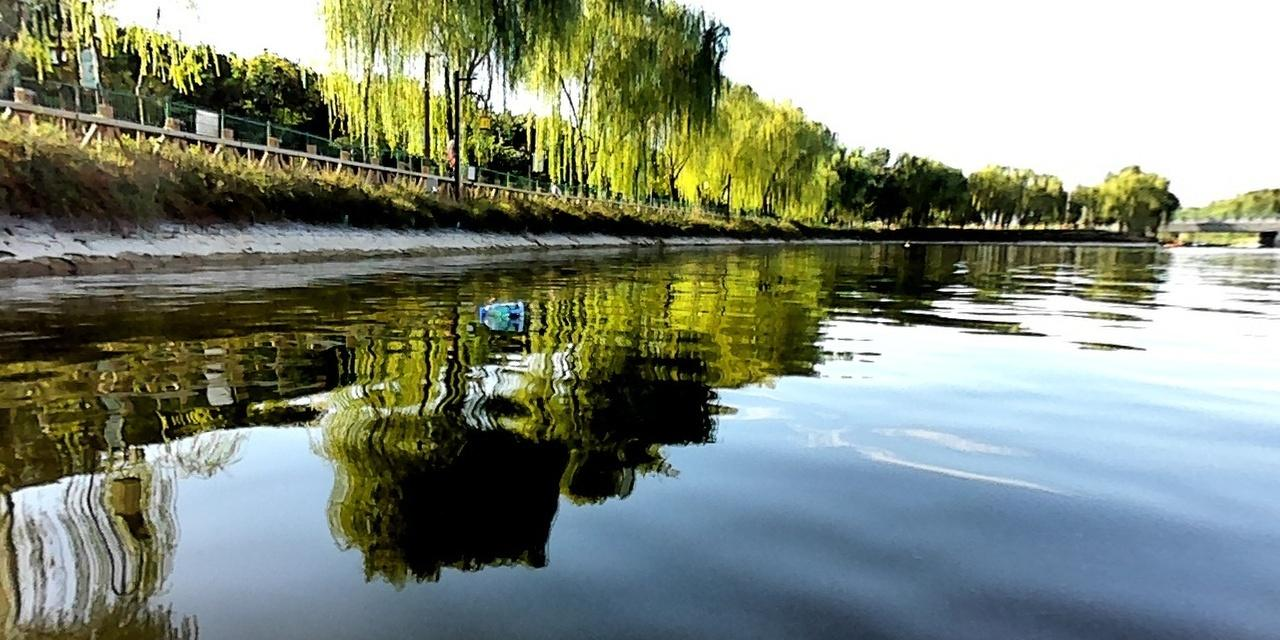bottle: (477, 298, 528, 323)
